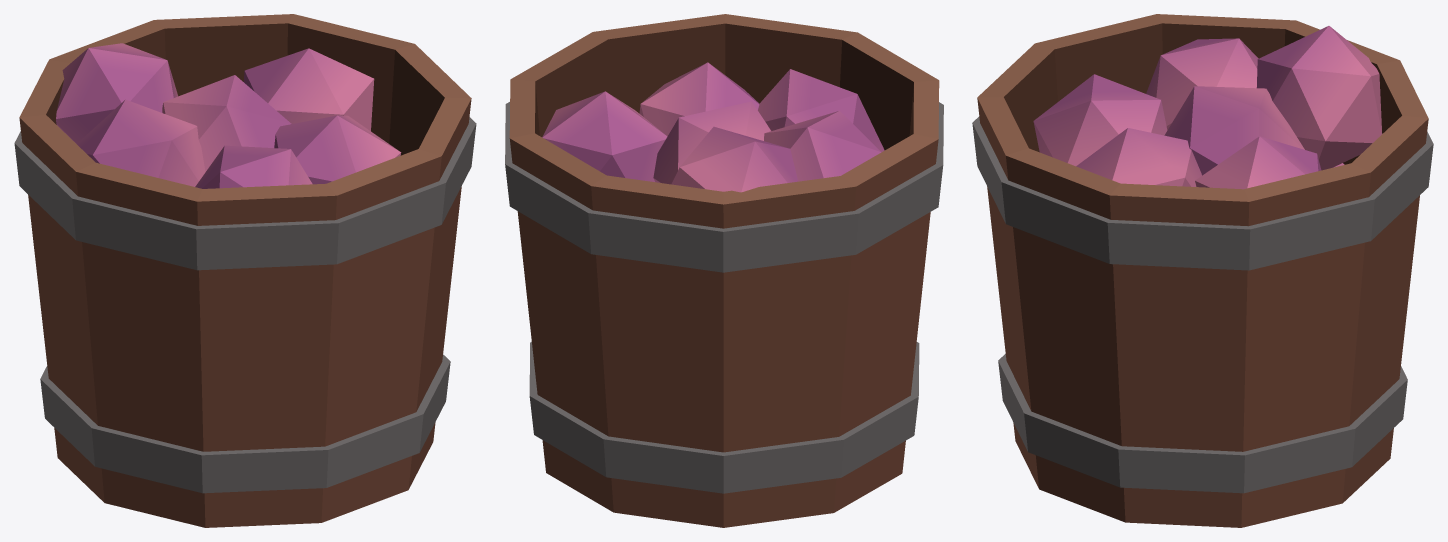
The model's file is Fruit 6.glb.
The picture shows the model from 3 angles, left to right: view 1: azimuth 30°, elevation 25°; view 2: azimuth 150°, elevation 25°; view 3: azimuth 270°, elevation 25°; orthographic projection.
Visible parts, largest first — view 1: Fruit 6; view 2: Fruit 6; view 3: Fruit 6.
Boxes of the visible parts, left/top/right/bottom form: Fruit 6: left=14, top=14, right=476, bottom=527; Fruit 6: left=505, top=14, right=943, bottom=527; Fruit 6: left=972, top=14, right=1433, bottom=527.
Size of what is drawn, in the model's own units: 0.5273 by 0.4848 by 0.5354.
Materials: 1 (1 with a texture image).
